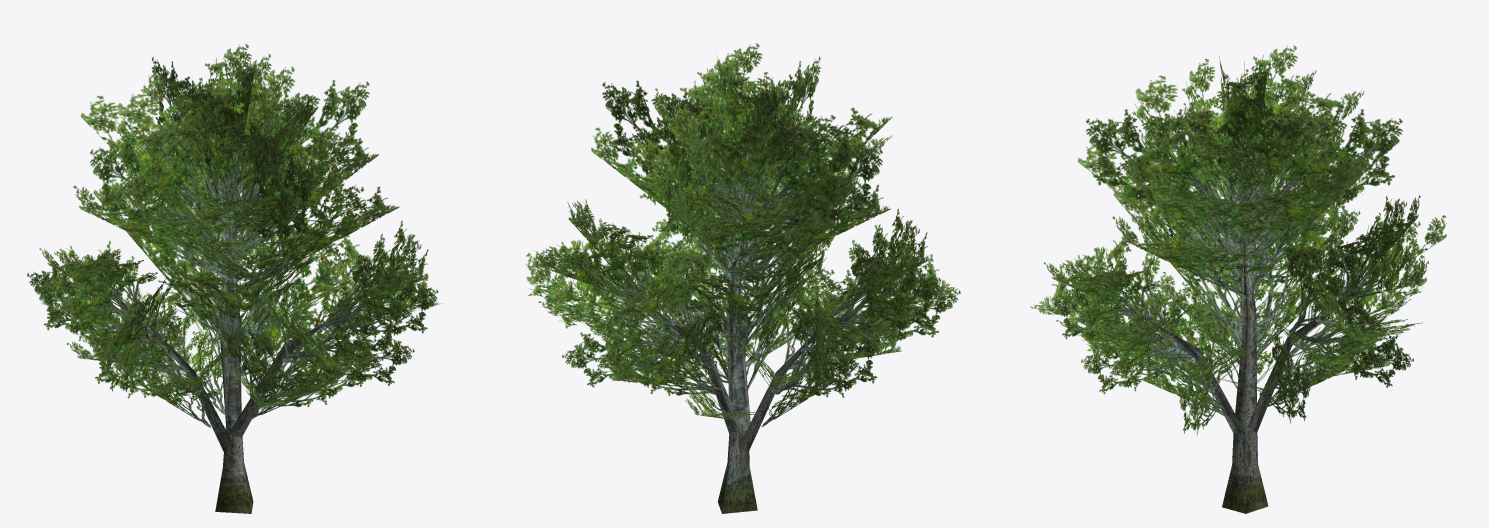
Rendered from ti_tree_01.glb.
3 renders of one model, left to right at view 1: azimuth 30°, elevation 25°; view 2: azimuth 150°, elevation 25°; view 3: azimuth 270°, elevation 25°, orthographic.
Visible parts, largest first — view 1: TI_Tree_01; view 2: TI_Tree_01; view 3: TI_Tree_01.
Boxes of the visible parts, x1,y1,x2,y2 form: TI_Tree_01: (27, 44, 442, 513); TI_Tree_01: (526, 43, 960, 513); TI_Tree_01: (1030, 45, 1446, 513).
Bounding box in the file's own units: 6.39 × 7.6 × 6.86.
Materials: 3 (3 with a texture image).
